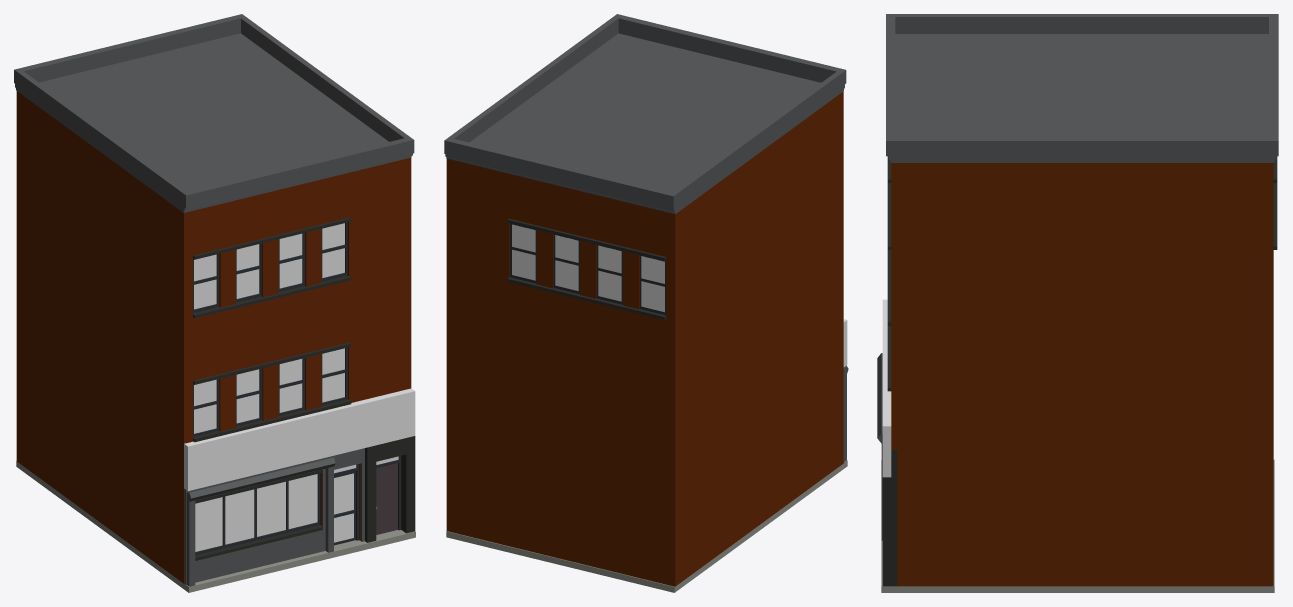
The model's file is Template.fbx.
3 renders of one model, left to right at view 1: azimuth 30°, elevation 25°; view 2: azimuth 150°, elevation 25°; view 3: azimuth 270°, elevation 25°, orthographic. The views are drawn at different scales.
Parts seen in each view (by area): view 1: Exterior, Roof, Banner, Store Closer, Glass Window 1, Glass Window 6, Glass Window 2, Floor/Staircase, 2nd Floor Window Front, 2nd Floor Window, Front Door, Glass Door Window (+1 smaller); view 2: Exterior, Roof, Glass Window 7, Floor/Staircase, 2nd Floor Window Back; view 3: Exterior, Roof, Floor/Staircase, Banner, Store Closer.
Part boxes in pixels (x1,y1,x2,y2): Exterior: (16,91,415,583); Roof: (14,14,414,212); Banner: (184,388,415,491); Store Closer: (184,448,364,586); Glass Window 1: (195,474,317,551); Glass Window 6: (194,223,344,309); Glass Window 2: (194,348,344,433); Floor/Staircase: (16,461,415,592); 2nd Floor Window Front: (193,222,347,312); 2nd Floor Window: (193,347,347,436); Front Door: (376,463,397,534); Glass Door Window: (334,473,353,542); Exterior: (446,91,843,586); Roof: (444,14,846,214); Glass Window 7: (512,224,664,312); Floor/Staircase: (446,460,847,592); 2nd Floor Window Back: (510,223,665,315); Exterior: (882,156,1277,586); Roof: (886,14,1278,162); Floor/Staircase: (881,459,1274,592); Banner: (882,299,891,477); Store Closer: (877,353,882,540).
Bounding box in the file's own units: 819 × 1360 × 1093.
